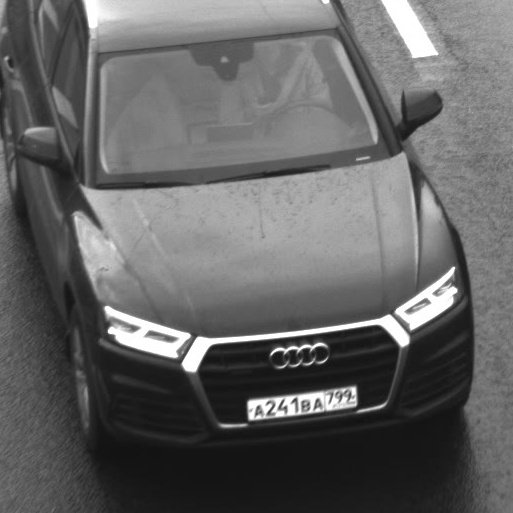plate: (235, 373, 366, 428)
